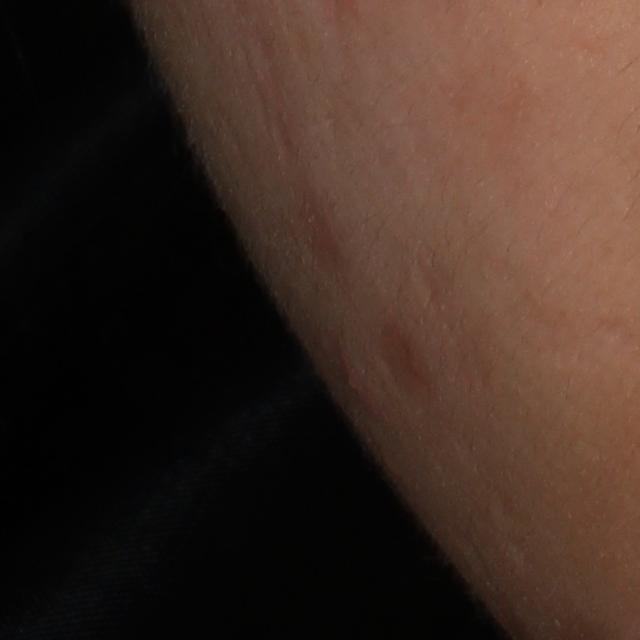atrophic_scar: (384, 327, 441, 423), (410, 242, 446, 318)
papule: (336, 359, 380, 412)
